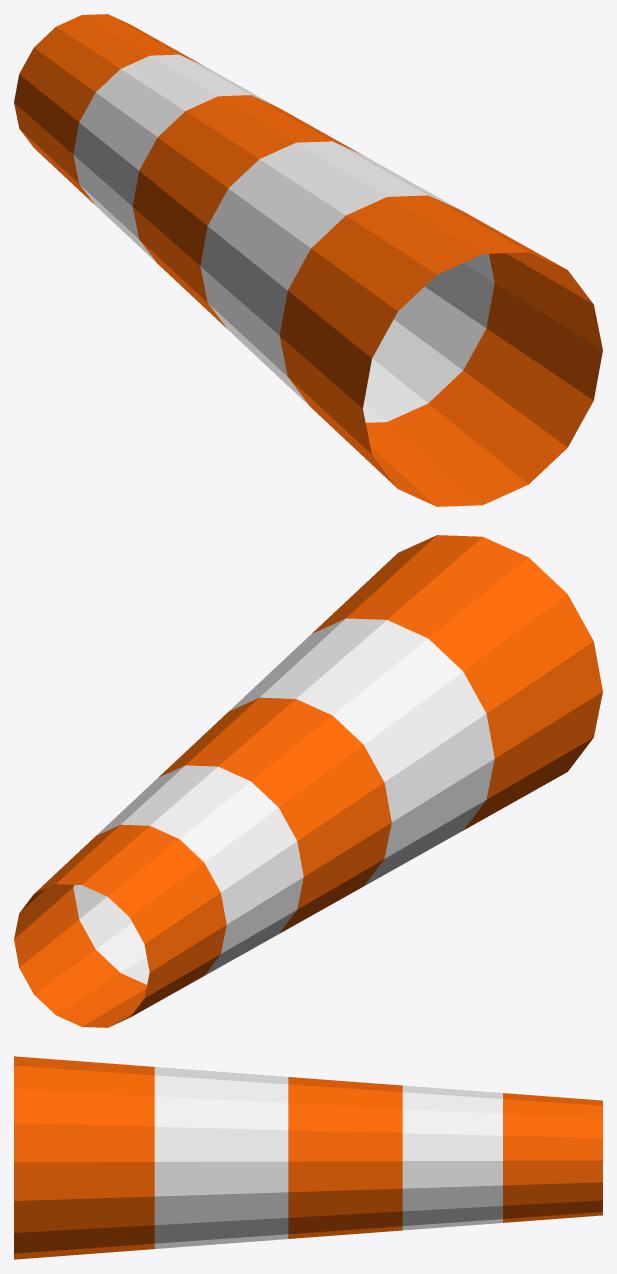
File: windsock.glb
3 views of the same model, one above another, from view 1: azimuth 30°, elevation 25°; view 2: azimuth 150°, elevation 25°; view 3: azimuth 270°, elevation 25° (orthographic). The views are drawn at different scales.
Parts seen in each view (by area): view 1: Cylinder; view 2: Cylinder; view 3: Cylinder.
Boxes of the visible parts, x1,y1,x2,y2 form: Cylinder: (14,14,602,506); Cylinder: (14,535,602,1027); Cylinder: (14,1056,602,1259).
Bounding box in the file's own units: 0.8976 × 0.8976 × 2.6.
